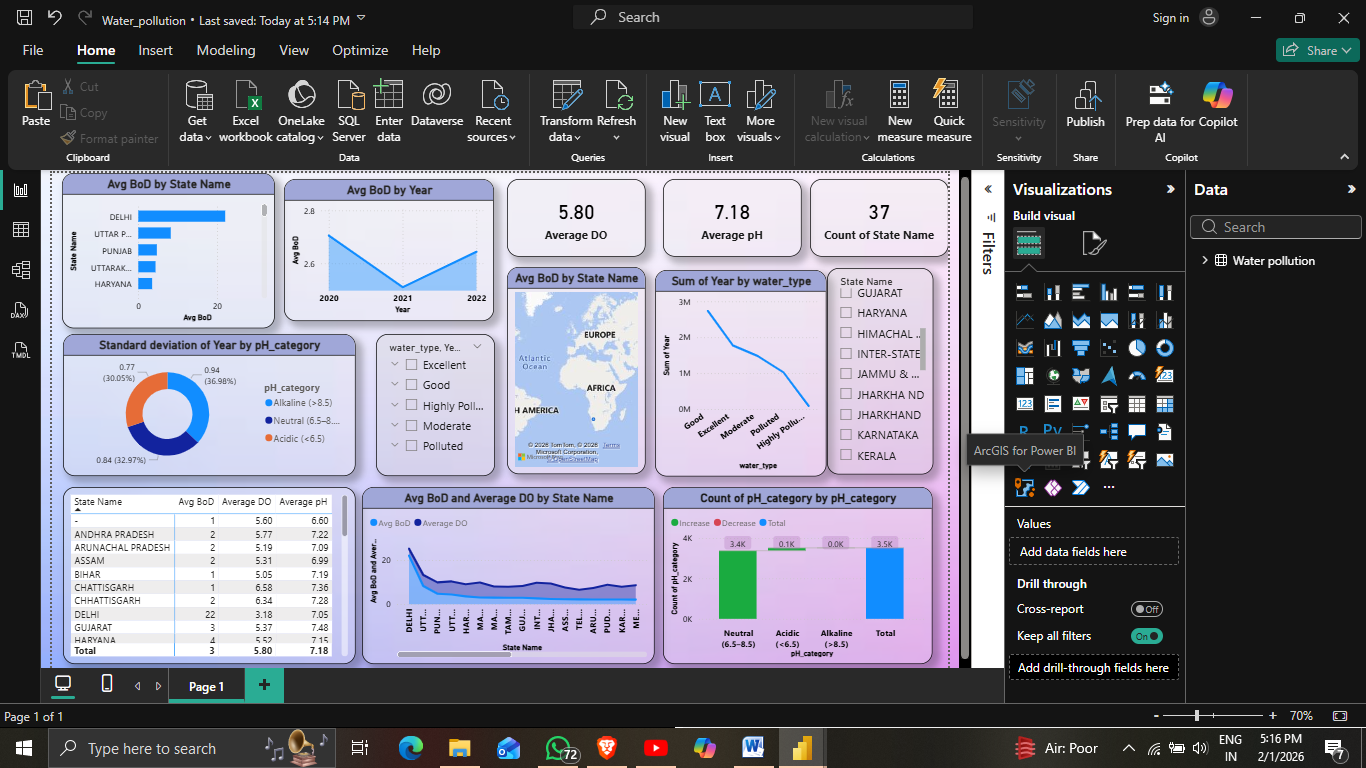

The page's visual inventory and layout, read from the dashboard file:
{"tool":"powerbi","page":{"name":"Dashboard","canvas":[1280,720],"ordinal":0},"visuals":[{"type":"clusteredBarChart","fields":{"Category":["Water pollution.State Name"],"Y":["Water pollution.Avg BoD"]},"box":[14.7,0,304.2,221.9],"z":0},{"type":"areaChart","fields":{"Category":["Water pollution.Year"],"Y":["Water pollution.Avg BoD"]},"box":[331.2,8.8,300,202.5],"z":1000},{"type":"card","fields":{"Values":["Water pollution.Average DO"]},"box":[650,8.8,197.5,111.2],"z":2000},{"type":"card","fields":{"Values":["Water pollution.Average pH"]},"box":[872.5,8.8,197.5,111.2],"z":3000},{"type":"donutChart","fields":{"Y":["Sum(Water pollution.Year)"],"Category":["Water pollution.pH_category"]},"box":[15,230,417.5,202.5],"z":4000},{"type":"slicer","fields":{"Values":["Water pollution.water_type","Water pollution.Year"]},"box":[462.5,230,170,202.5],"z":5000},{"type":"map","fields":{"Size":["Water pollution.Avg BoD"],"Category":["Water pollution.State Name"]},"box":[650,133.8,197.5,296.2],"z":6000},{"type":"lineChart","fields":{"Category":["Water pollution.water_type"],"Y":["Sum(Water pollution.Year)"]},"box":[861.7,138.3,245,295],"z":7000},{"type":"slicer","fields":{"Values":["Water pollution.State Name"]},"box":[1106.7,135,151.7,295],"z":8000},{"type":"card","fields":{"Values":["Count(Water pollution.State Name)"]},"box":[1082.5,8.8,197.5,111.2],"z":9000},{"type":"pivotTable","fields":{"Rows":["Water pollution.State Name"],"Values":["Water pollution.Avg BoD","Water pollution.Average DO","Water pollution.Average pH"]},"box":[15,448.3,418.3,253.3],"z":10000},{"type":"stackedAreaChart","fields":{"Category":["Water pollution.State Name"],"Y":["Water pollution.Avg BoD","Water pollution.Average DO"]},"box":[443.3,448.3,418.3,253.3],"z":11000},{"type":"waterfallChart","fields":{"Category":["Water pollution.pH_category"],"Y":["CountNonNull(Water pollution.pH_category)"]},"box":[873.3,448.3,385,253.3],"z":12000}]}

Visuals, with their boxes on the page's 1280x720 design canvas (x1, y1, x2, y2). These are canvas units, not pixel positions in the 1366x768 screenshot, which may show the page scaled, cropped or inside an application window:
clusteredBarChart - Water pollution.State Name x Water pollution.Avg BoD: <box>15,0,319,222</box>
areaChart - Water pollution.Year x Water pollution.Avg BoD: <box>331,9,631,211</box>
card - Water pollution.Average DO: <box>650,9,848,120</box>
card - Water pollution.Average pH: <box>872,9,1070,120</box>
donutChart - Sum(Water pollution.Year) x Water pollution.pH_category: <box>15,230,432,432</box>
slicer - Water pollution.water_type x Water pollution.Year: <box>462,230,632,432</box>
map - Water pollution.Avg BoD x Water pollution.State Name: <box>650,134,848,430</box>
lineChart - Water pollution.water_type x Sum(Water pollution.Year): <box>862,138,1107,433</box>
slicer - Water pollution.State Name: <box>1107,135,1258,430</box>
card - Count(Water pollution.State Name): <box>1082,9,1280,120</box>
pivotTable - Water pollution.State Name x Water pollution.Avg BoD: <box>15,448,433,702</box>
stackedAreaChart - Water pollution.State Name x Water pollution.Avg BoD: <box>443,448,862,702</box>
waterfallChart - Water pollution.pH_category x CountNonNull(Water pollution.pH_category): <box>873,448,1258,702</box>
